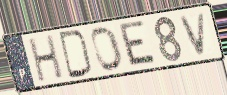8: (153, 15, 184, 63)
D: (57, 29, 94, 81)
E: (118, 18, 159, 68)
H: (28, 32, 65, 85)
O: (90, 25, 125, 73)
V: (178, 10, 208, 58)
